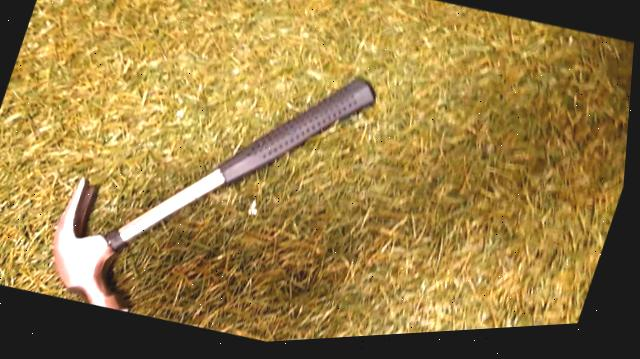hammer: (26, 9, 400, 357)
